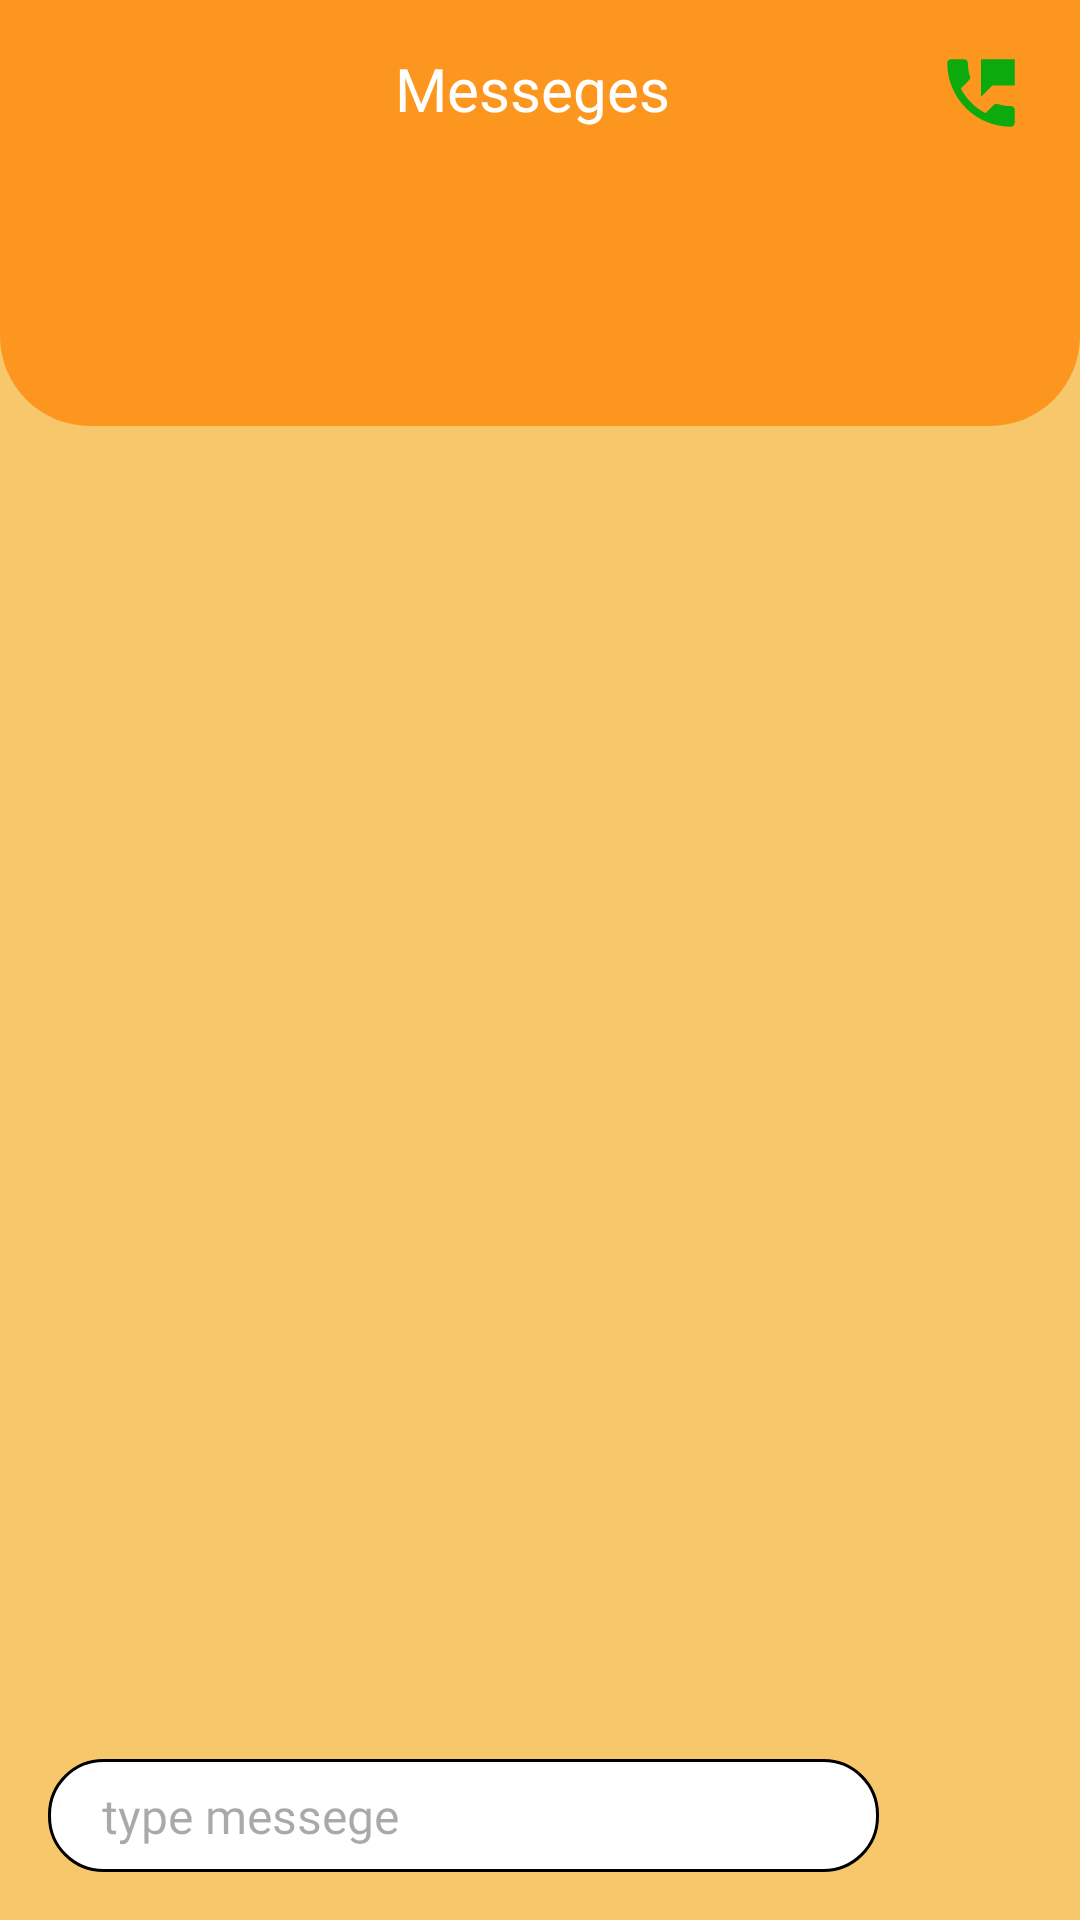

Named icons in this screenshot (1080 × 1920) and their bounding boxes, [left=x1, top=y1, right=x2, bottom=y2]:
perm phone msg: [left=947, top=59, right=1015, bottom=127]
